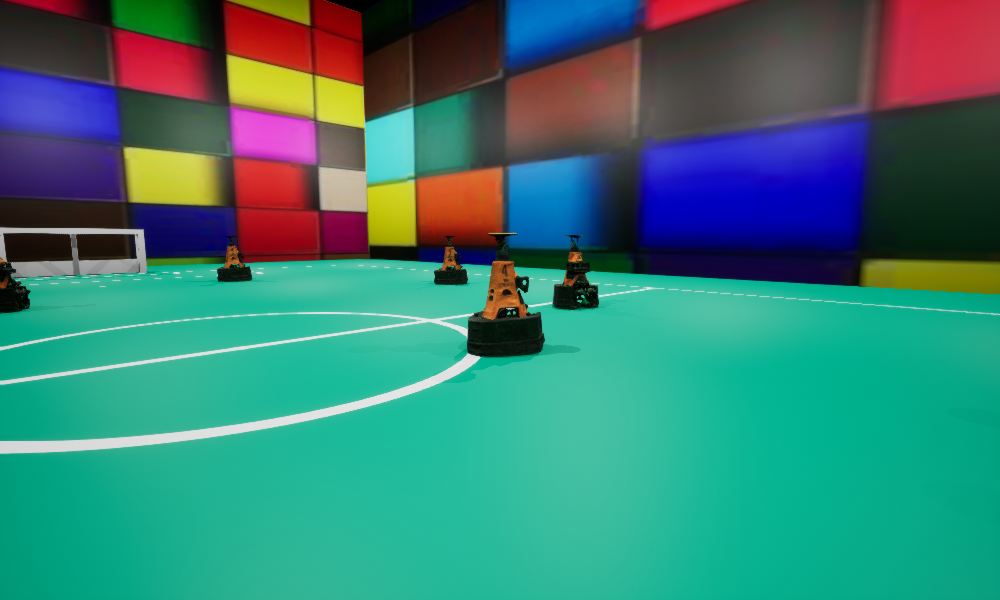o: (467, 233, 544, 356), (553, 235, 598, 309), (0, 235, 30, 312), (434, 236, 467, 284), (217, 236, 251, 281)
